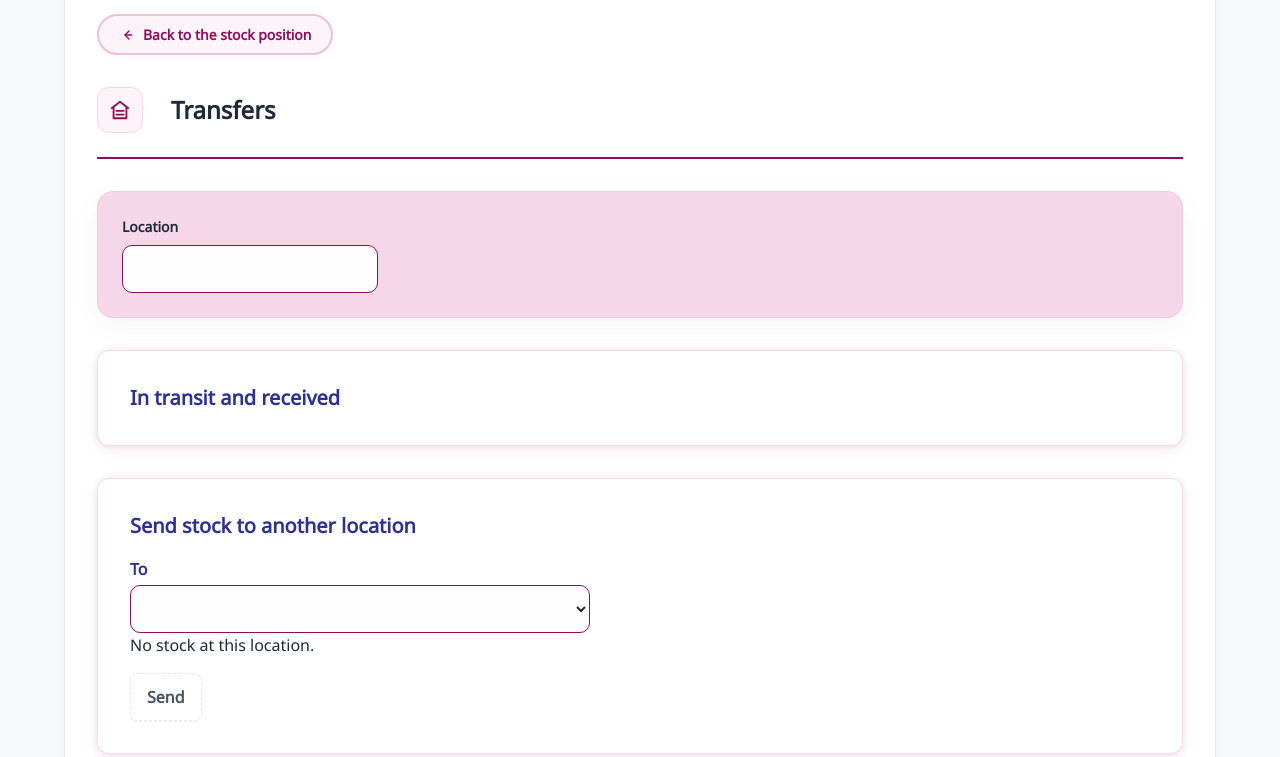
Scenario: TransfersPage › hides Receive button when user lacks shop.transfer.receive permission
Select "0190f0de-0000-7000-8000-000000000102" in the dropdown labelled "Location" at (250, 269), box [122,245,378,293]
(page scrolled)
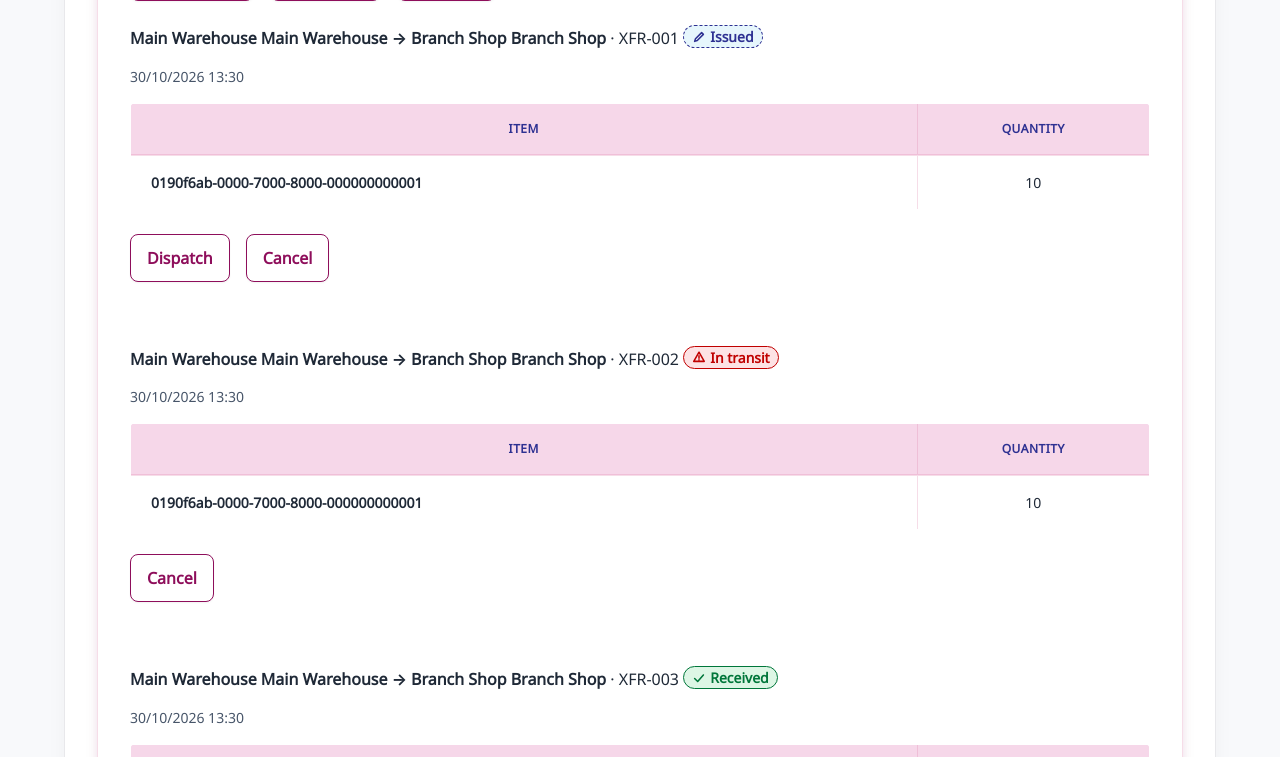
Result: the text "In transit" is shown at [683,346,779,368]
